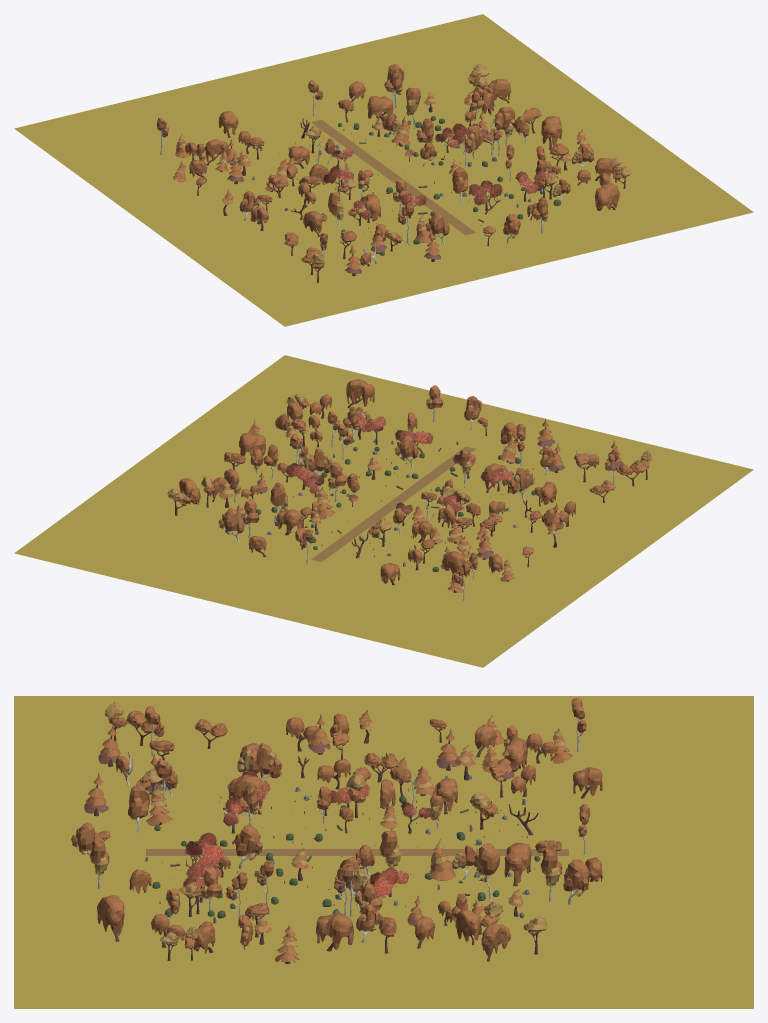
Rendered from env_autumn_forest.glb.
3 views of the same model, one above another, from view 1: azimuth 30°, elevation 25°; view 2: azimuth 150°, elevation 25°; view 3: azimuth 270°, elevation 25° (orthographic). The views are drawn at different scales.
Parts seen in each view (by area): view 1: ground, path, MapleTree_3, Willow_Autumn_2, Willow_Autumn_4; view 2: ground, path, Willow_Autumn_2, BirchTree_Autumn_4; view 3: ground, BirchTree_Autumn_1 (×5), Willow_Autumn_4 (×4), BirchTree_Autumn_3 (×5), Willow_Autumn_2 (×4), PineTree_Autumn_3 (×3), path, MapleTree_3 (×2), Willow_Autumn_5 (×2), BirchTree_Autumn_4, BirchTree_Autumn_2, Willow_Autumn_1 (+1 smaller).
Part boxes in pixels (x1=…): ground: x1=14, y1=14, x2=753, y2=326; path: x1=311, y1=119, x2=475, y2=235; MapleTree_3: x1=468, y1=180, x2=502, y2=210; Willow_Autumn_2: x1=595, y1=182, x2=619, y2=210; Willow_Autumn_4: x1=541, y1=116, x2=562, y2=149; ground: x1=14, y1=355, x2=753, y2=667; path: x1=311, y1=446, x2=475, y2=562; Willow_Autumn_2: x1=346, y1=379, x2=374, y2=408; BirchTree_Autumn_4: x1=298, y1=448, x2=332, y2=480; ground: x1=14, y1=696, x2=753, y2=1008; BirchTree_Autumn_1 (×5): x1=71, y1=784, x2=590, y2=942; Willow_Autumn_4 (×4): x1=315, y1=767, x2=602, y2=951; BirchTree_Autumn_3 (×5): x1=90, y1=782, x2=562, y2=910; Willow_Autumn_2 (×4): x1=97, y1=737, x2=527, y2=961; PineTree_Autumn_3 (×3): x1=146, y1=785, x2=455, y2=963; path: x1=146, y1=849, x2=568, y2=855; MapleTree_3 (×2): x1=185, y1=832, x2=398, y2=897; Willow_Autumn_5 (×2): x1=285, y1=717, x2=350, y2=789; BirchTree_Autumn_4: x1=237, y1=743, x2=281, y2=779; BirchTree_Autumn_2: x1=476, y1=842, x2=500, y2=899; Willow_Autumn_1: x1=455, y1=909, x2=480, y2=945.
Size of the model in its own units: 140 by 11.96 by 140.
16 materials, 2 textured.
